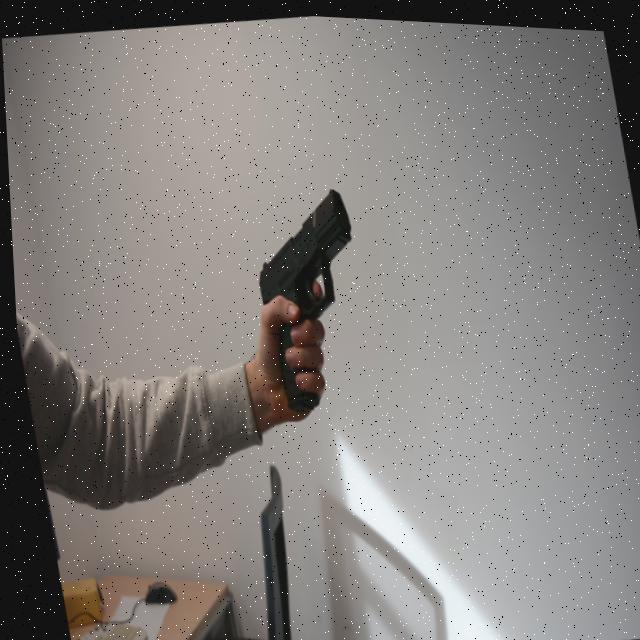pistol: (238, 177, 364, 330)
